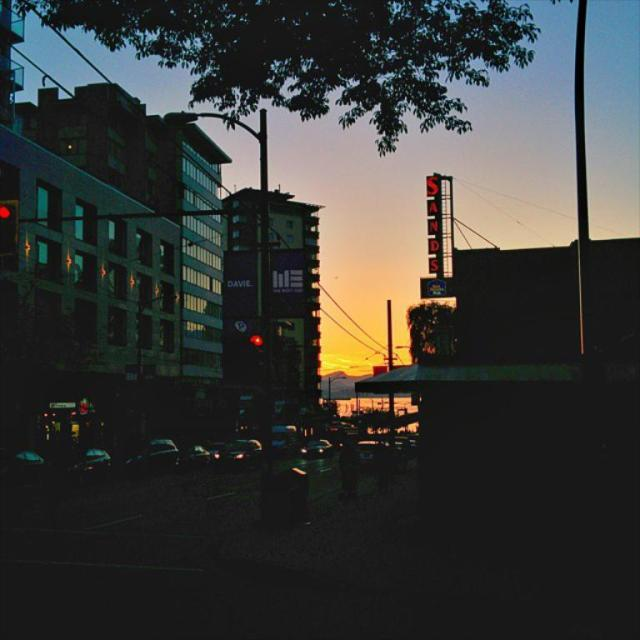traffic light: (0, 197, 19, 254), (247, 331, 264, 370)
